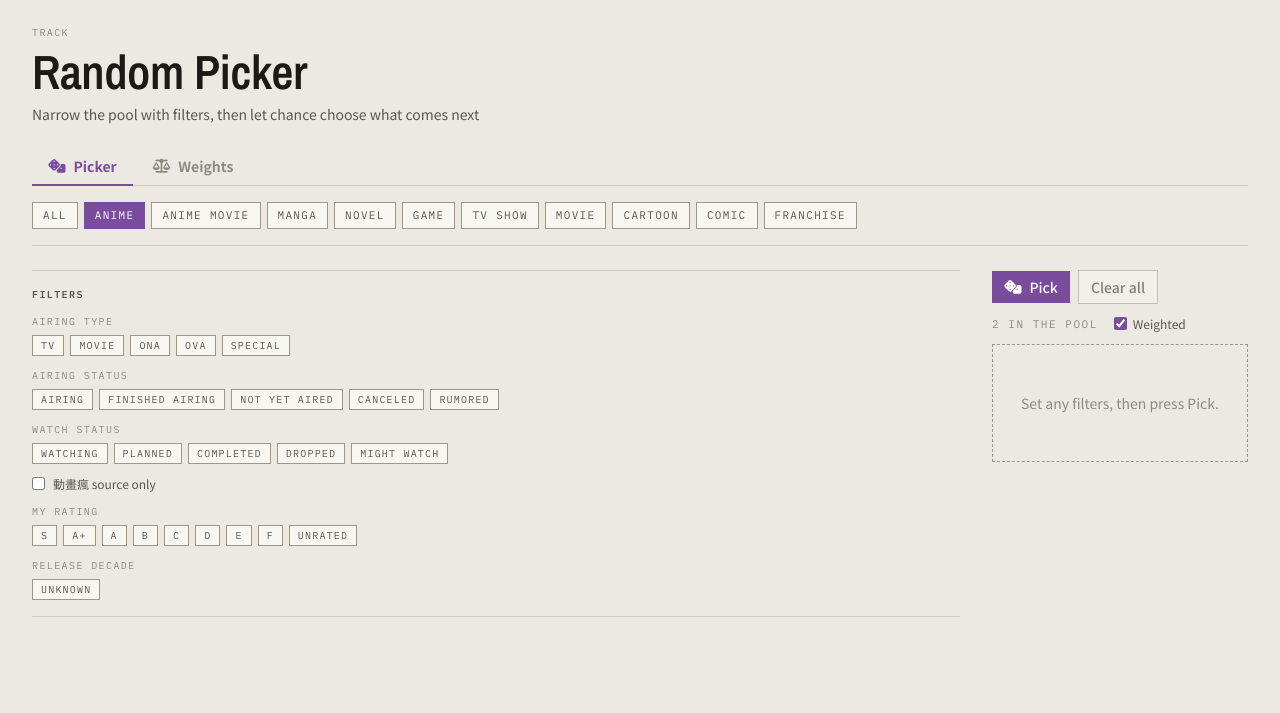
draws weighted by default, and says the chance the pick had
Expected: the text "2 in the pool" is shown, 992,316 -> 1098,332
Expected: the checkbox labelled "Weighted" is checked, 1114,317 -> 1127,330
Click the button "Special". click: (256, 345)
box: 222,334 -> 290,356
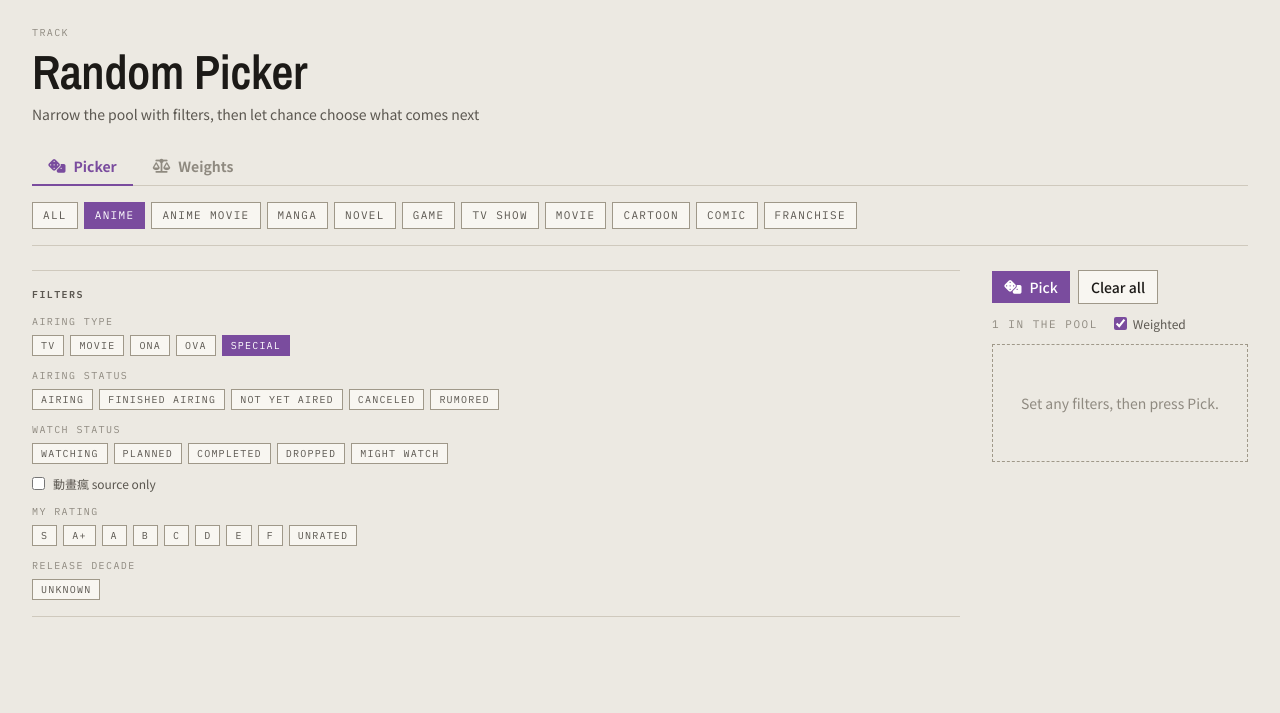
Click the button "Pick". click: (1031, 286)
box: 992,270 -> 1070,302
(page scrolled)
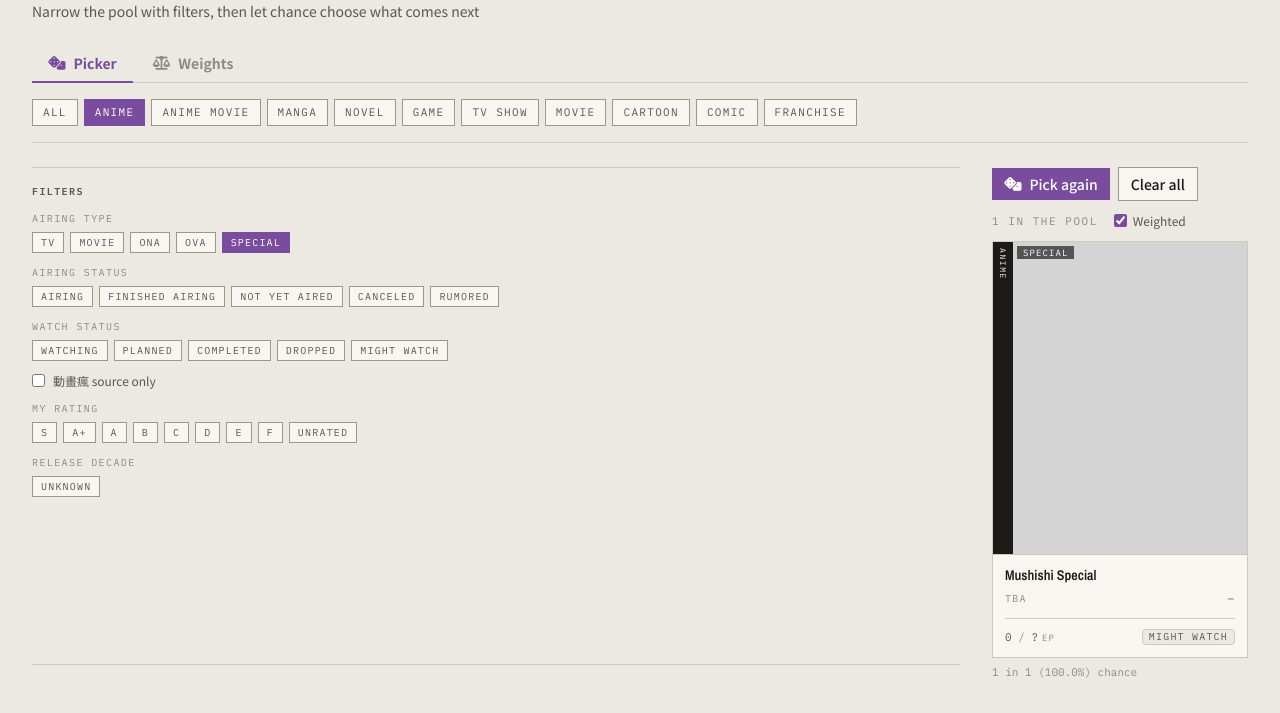
Expected: the text "1 in 1 (100.0%) chance" is shown, 992,665 -> 1137,679
